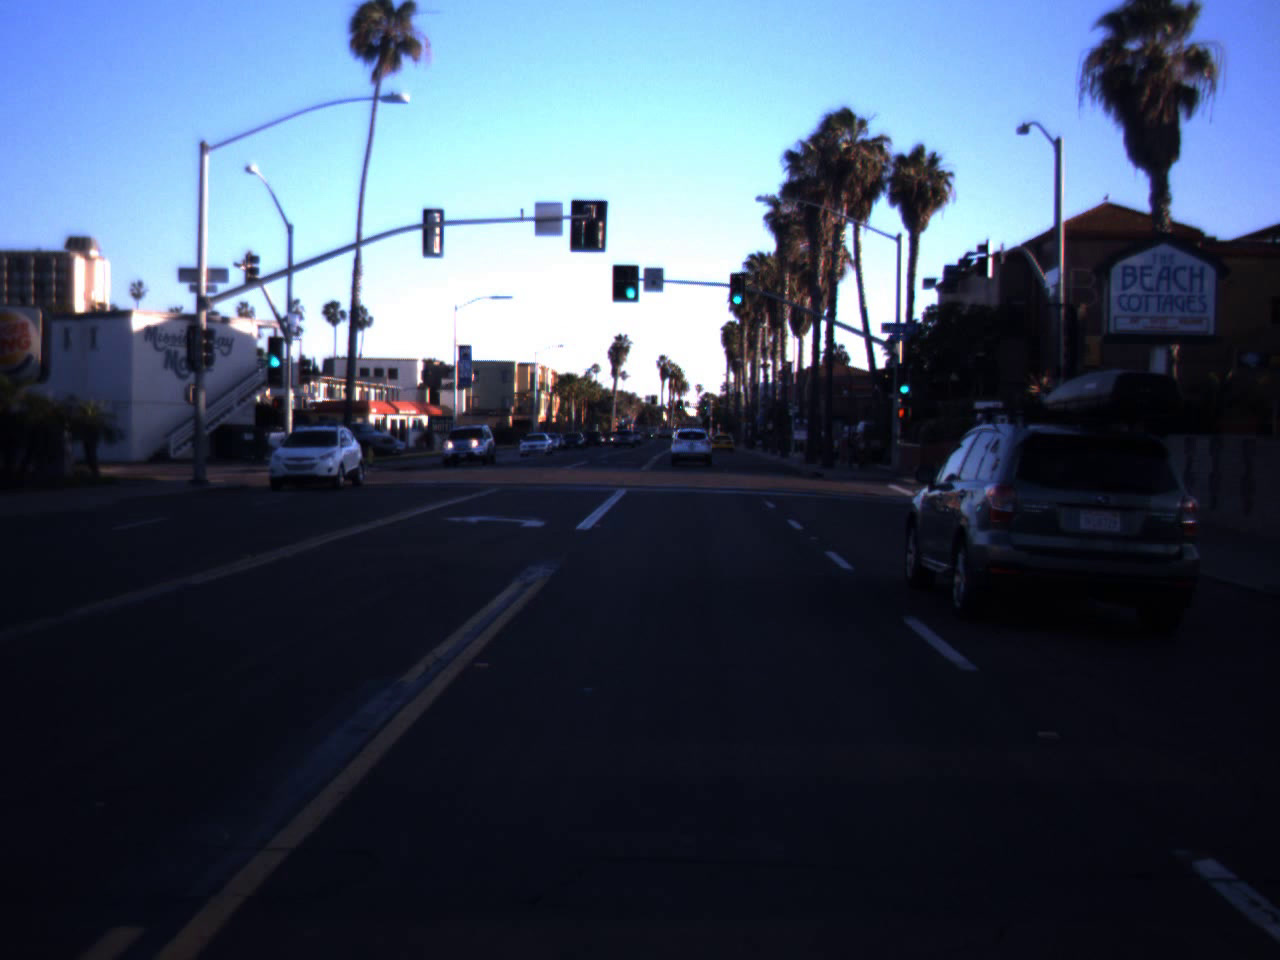go: (620, 257, 641, 302), (264, 330, 285, 370), (727, 268, 748, 308), (894, 365, 915, 395)
